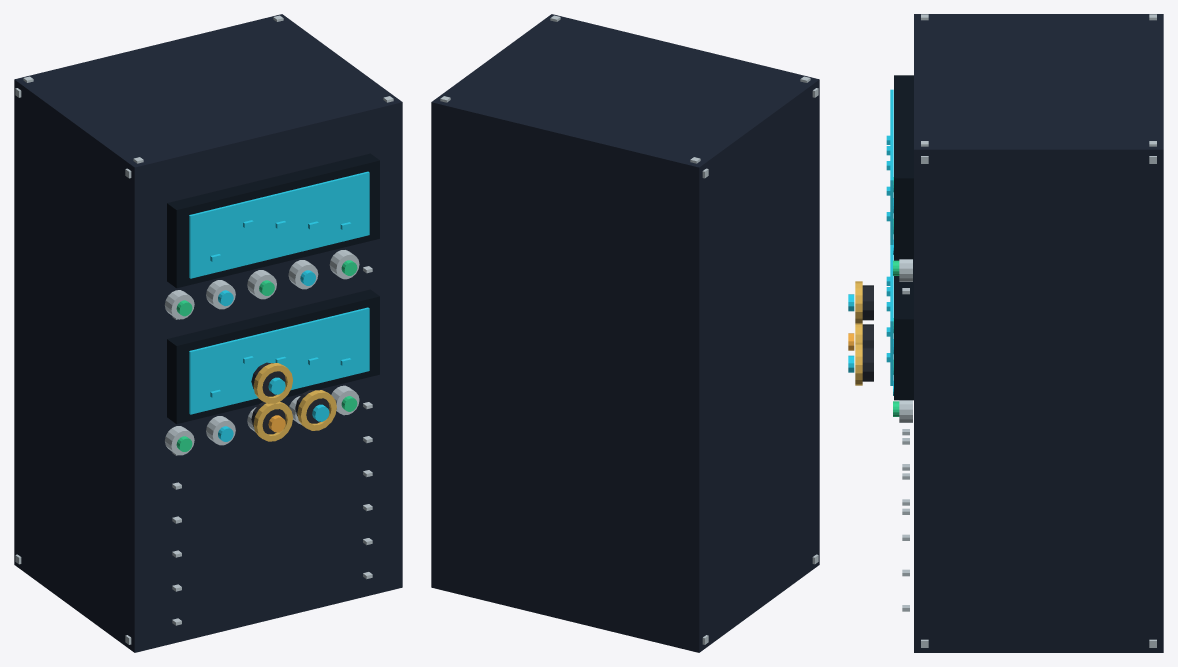
The model's file is 61_L82_FaultDiagnosisAndRepairRouter.fbx.
3 renders of one model, left to right at view 1: azimuth 30°, elevation 25°; view 2: azimuth 150°, elevation 25°; view 3: azimuth 270°, elevation 25°, orthographic. The views are drawn at different scales.
Parts seen in each view (by area): view 1: FaultDiagnosisAndRepairRouter; view 2: FaultDiagnosisAndRepairRouter; view 3: FaultDiagnosisAndRepairRouter.
Part boxes in pixels (bbox=[...]): FaultDiagnosisAndRepairRouter: bbox=[14, 14, 402, 652]; FaultDiagnosisAndRepairRouter: bbox=[431, 14, 819, 652]; FaultDiagnosisAndRepairRouter: bbox=[848, 14, 1163, 652].
Size of the model in its own units: 106 by 182 by 102.
